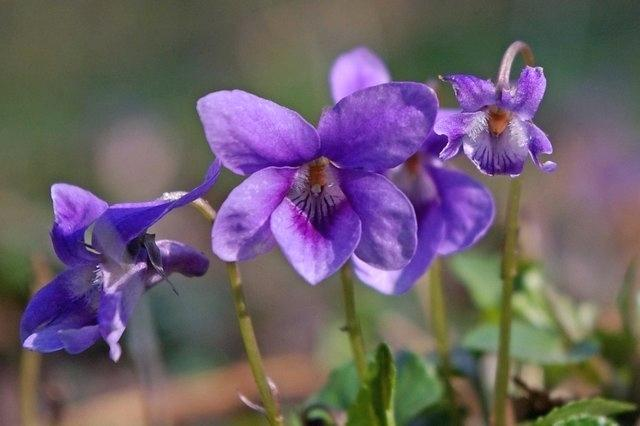violet: (179, 72, 434, 294), (36, 186, 208, 374), (453, 69, 566, 198)
